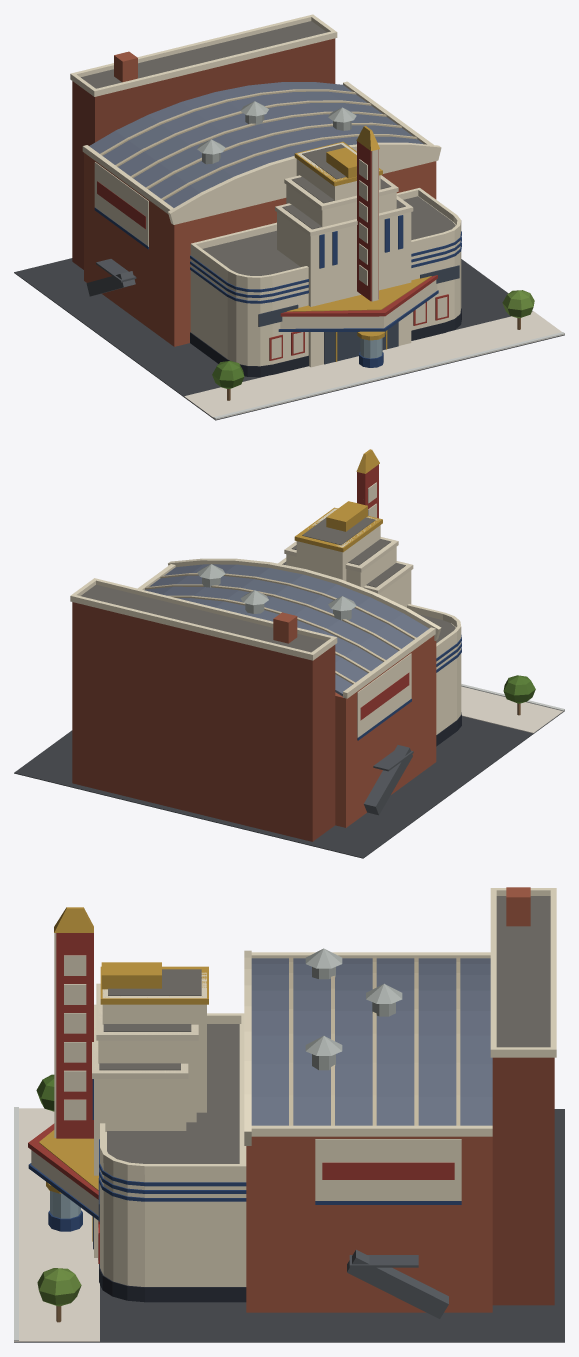
Rendered from picturehouse.glb.
3 views of the same model, one above another, from view 1: azimuth 30°, elevation 25°; view 2: azimuth 150°, elevation 25°; view 3: azimuth 270°, elevation 25° (orthographic). The views are drawn at different scales.
Parts seen in each view (by area): view 1: picturehouse; view 2: picturehouse; view 3: picturehouse.
Boxes of the visible parts, bbox=[...] form: picturehouse: bbox=[14, 14, 564, 420]; picturehouse: bbox=[14, 449, 564, 858]; picturehouse: bbox=[14, 887, 564, 1342].
Bounding box in the file's own units: 32 × 20.4 × 32.
